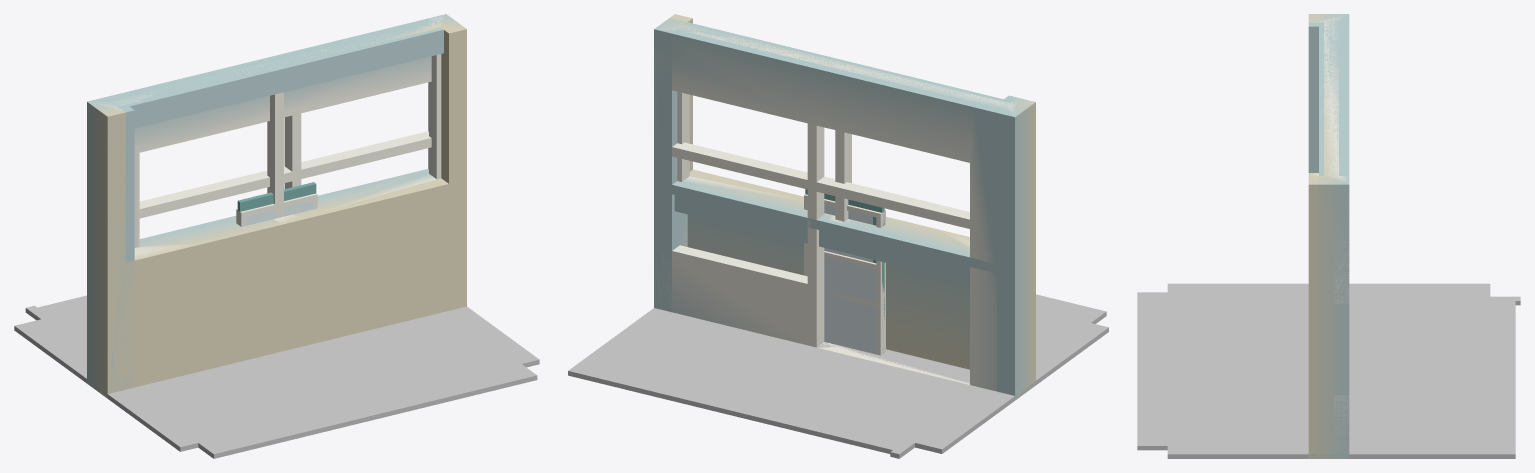
Rendered from Corridor.fbx.
3 views of the same model, side by side, from view 1: azimuth 30°, elevation 25°; view 2: azimuth 150°, elevation 25°; view 3: azimuth 270°, elevation 25° (orthographic). The views are drawn at different scales.
Visible parts, largest first — view 1: wall-A, floor-A, wall-B, window-C, door; view 2: wall-B, wall-A, floor-A, window-A, window-B, door, window-C; view 3: floor-A, wall-A, wall-B.
Part boxes in pixels (x1=…): wall-A: x1=87, y1=14, x2=466, y2=398; floor-A: x1=14, y1=295, x2=539, y2=458; wall-B: x1=91, y1=14, x2=457, y2=393; window-C: x1=236, y1=193, x2=317, y2=226; door: x1=237, y1=182, x2=316, y2=211; wall-B: x1=654, y1=18, x2=1034, y2=394; wall-A: x1=654, y1=14, x2=1035, y2=400; floor-A: x1=568, y1=294, x2=1108, y2=458; window-A: x1=804, y1=247, x2=885, y2=355; window-B: x1=824, y1=290, x2=885, y2=354; door: x1=805, y1=189, x2=884, y2=352; window-C: x1=804, y1=194, x2=885, y2=355; floor-A: x1=1137, y1=283, x2=1520, y2=458; wall-A: x1=1308, y1=14, x2=1349, y2=458; wall-B: x1=1308, y1=14, x2=1349, y2=458.
Bounding box in the file's own units: 800 × 600 × 760.
